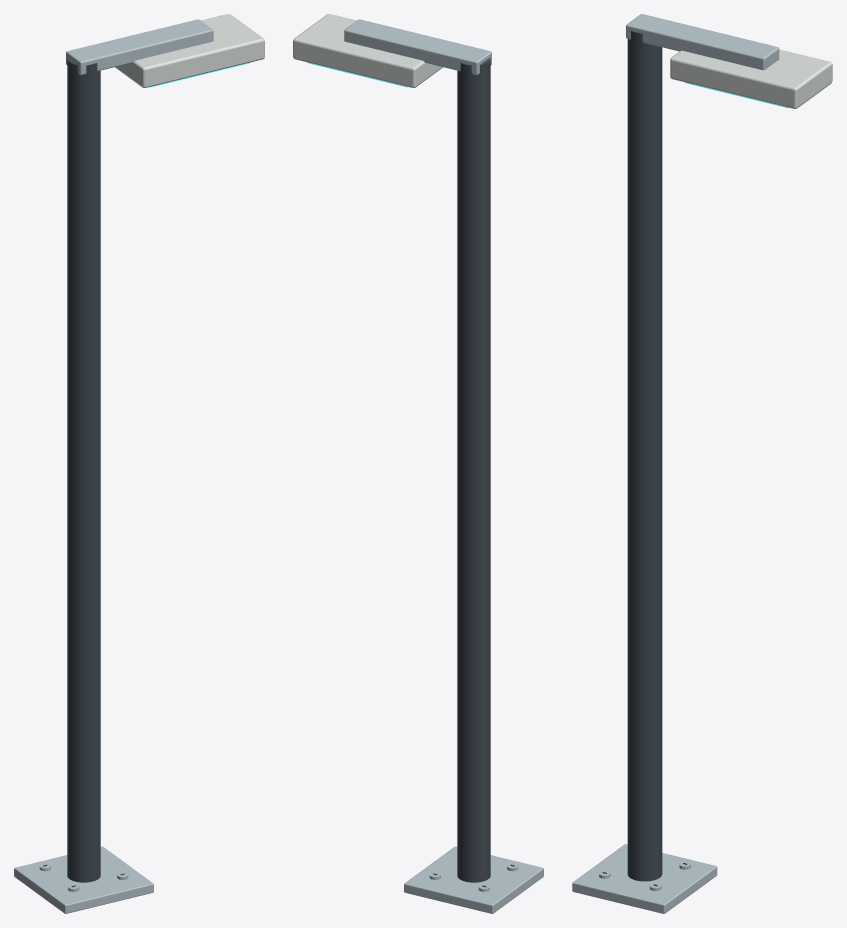
The model's file is data-centre-infiltration-kit-data-centre-infiltration--6b390f5b__29263.glb.
3 views of the same model, side by side, from view 1: azimuth 30°, elevation 25°; view 2: azimuth 150°, elevation 25°; view 3: azimuth 330°, elevation 25° (orthographic). The views are drawn at different scales.
Visible parts, largest first — view 1: data-centre-infiltration-kit-yard-light; view 2: data-centre-infiltration-kit-yard-light; view 3: data-centre-infiltration-kit-yard-light.
Part boxes in pixels (x1,y1,x2,y2): data-centre-infiltration-kit-yard-light: (14,14,264,913); data-centre-infiltration-kit-yard-light: (293,14,543,913); data-centre-infiltration-kit-yard-light: (572,14,832,913).
Size of the model in its own units: 0.935 by 3.56 by 0.3998.
